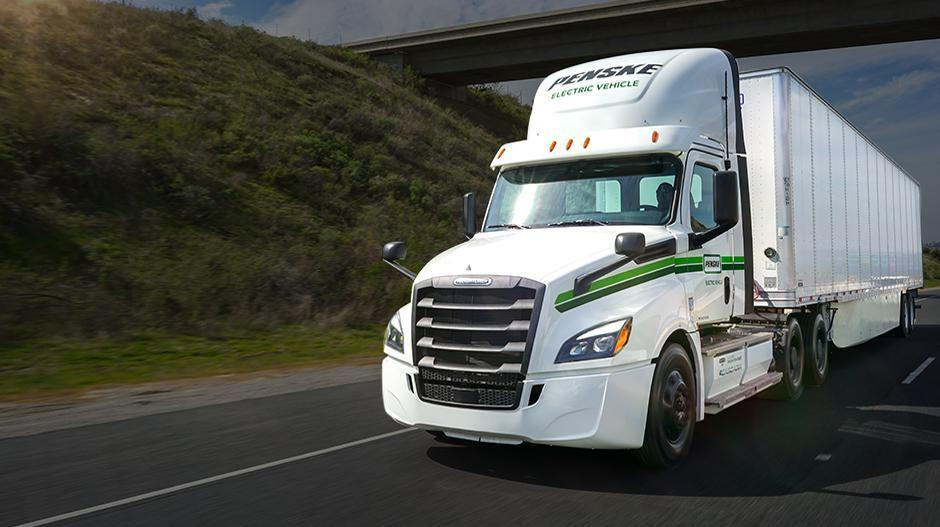truck: (380, 46, 923, 470)
